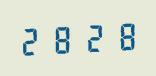eight: (48, 21, 77, 55), (108, 18, 137, 52)
two: (78, 19, 107, 54), (18, 23, 47, 57)
